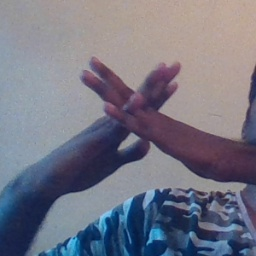W: (68, 45, 195, 180)
